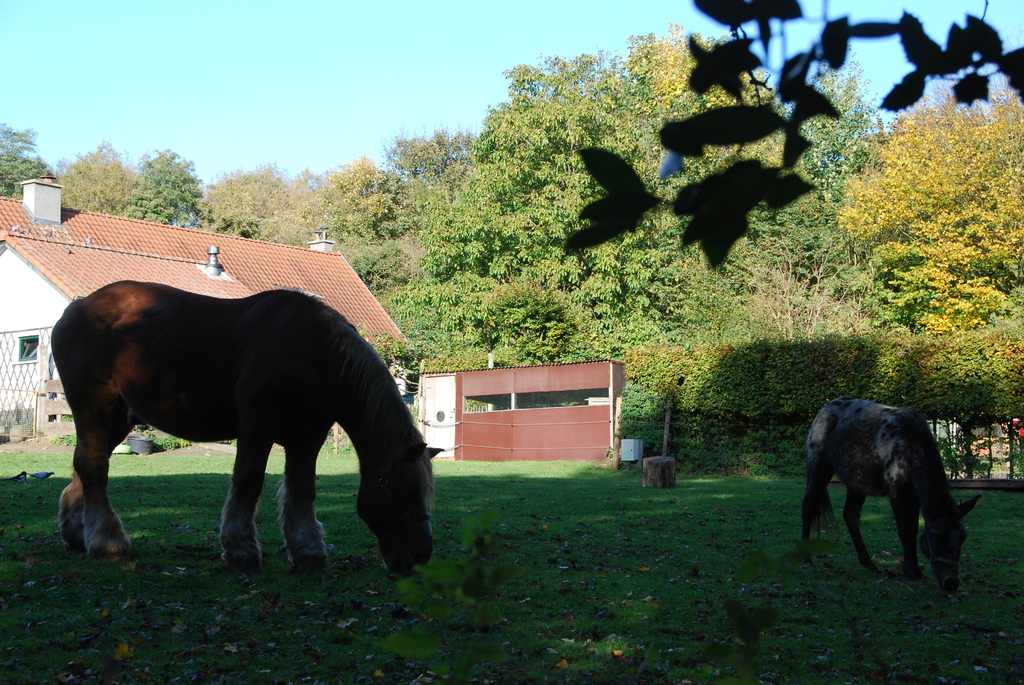horse: (43, 283, 432, 578), (794, 402, 976, 608)
